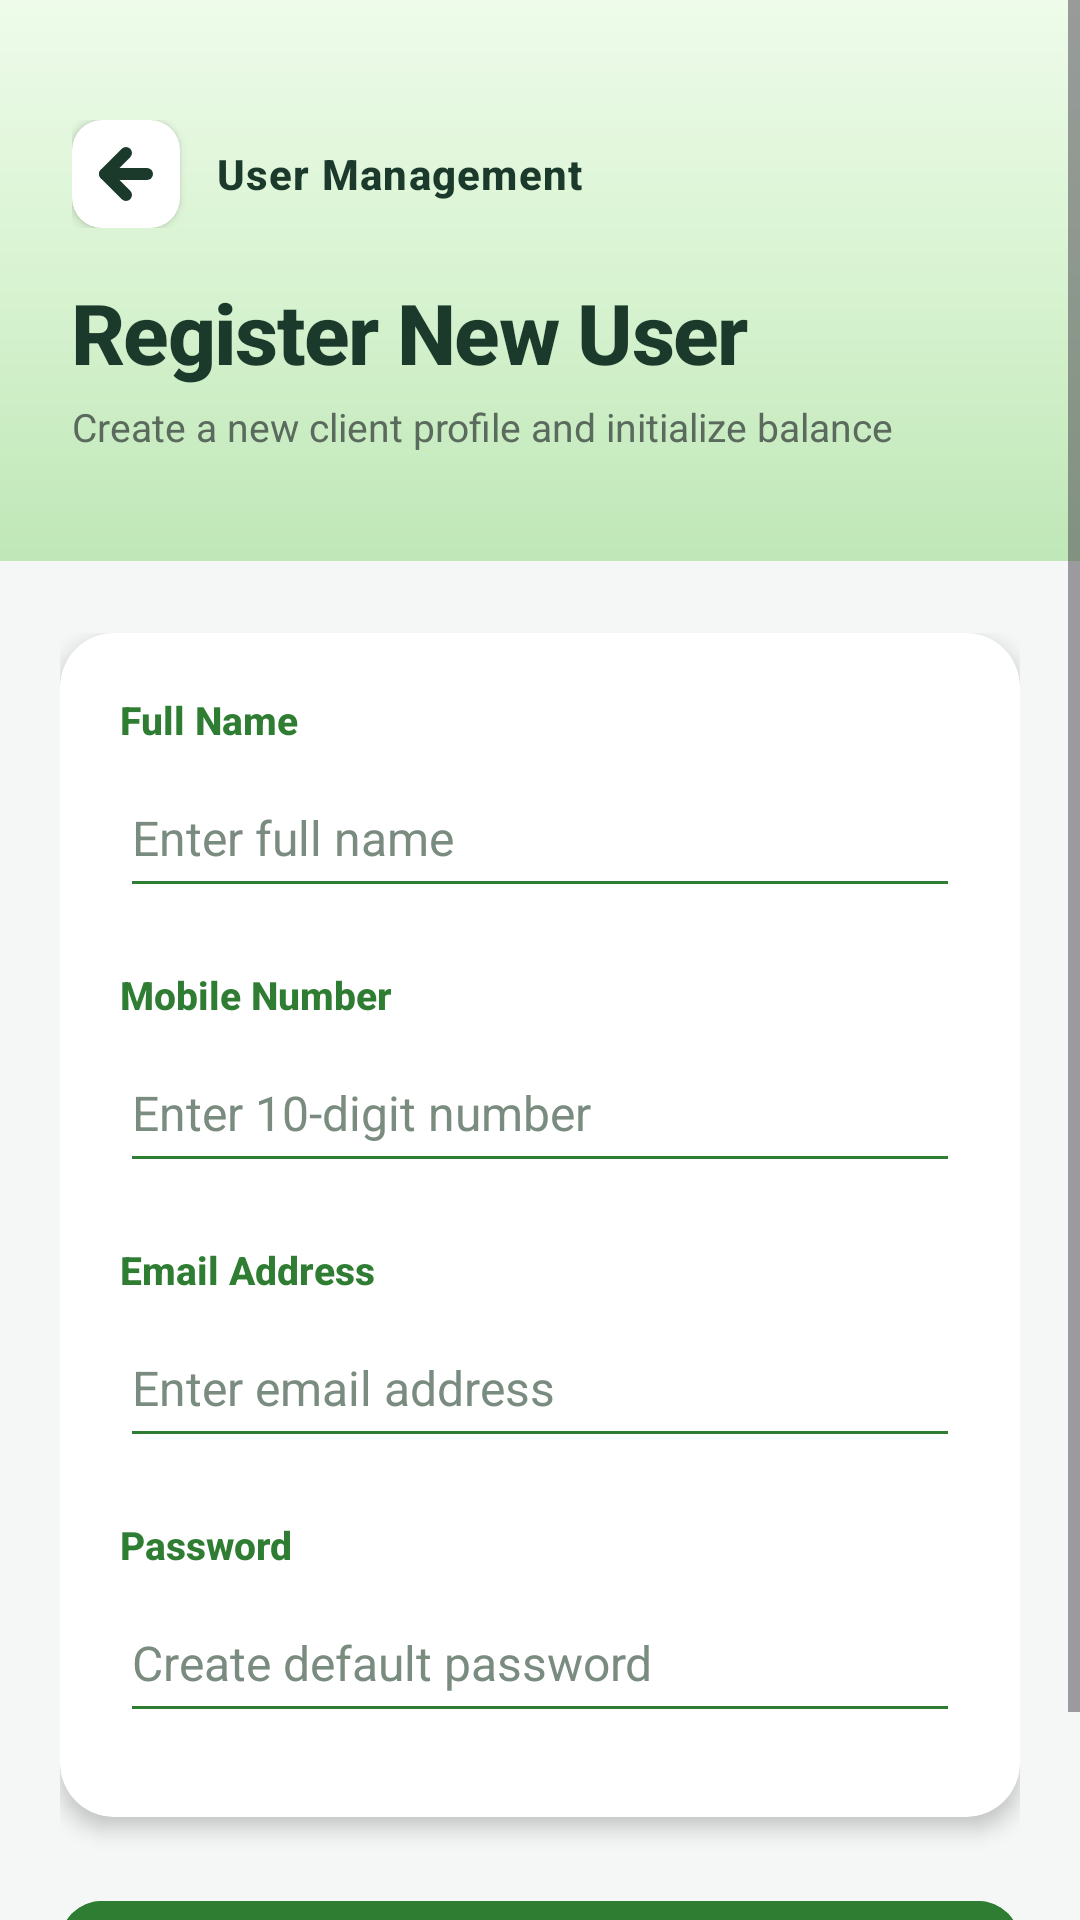

Icon click points for this 1080px×1920px phone screenshot, format (x=x, y=y):
Go Back: (x=126, y=174)
